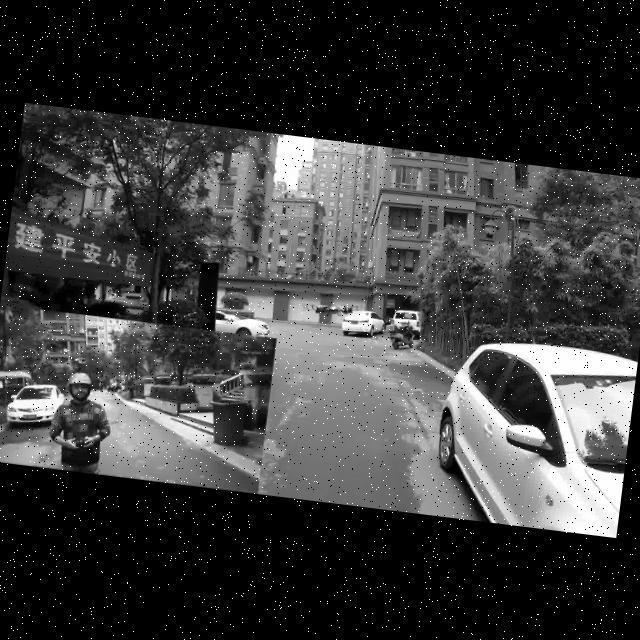Drons: (306, 296, 359, 323)
